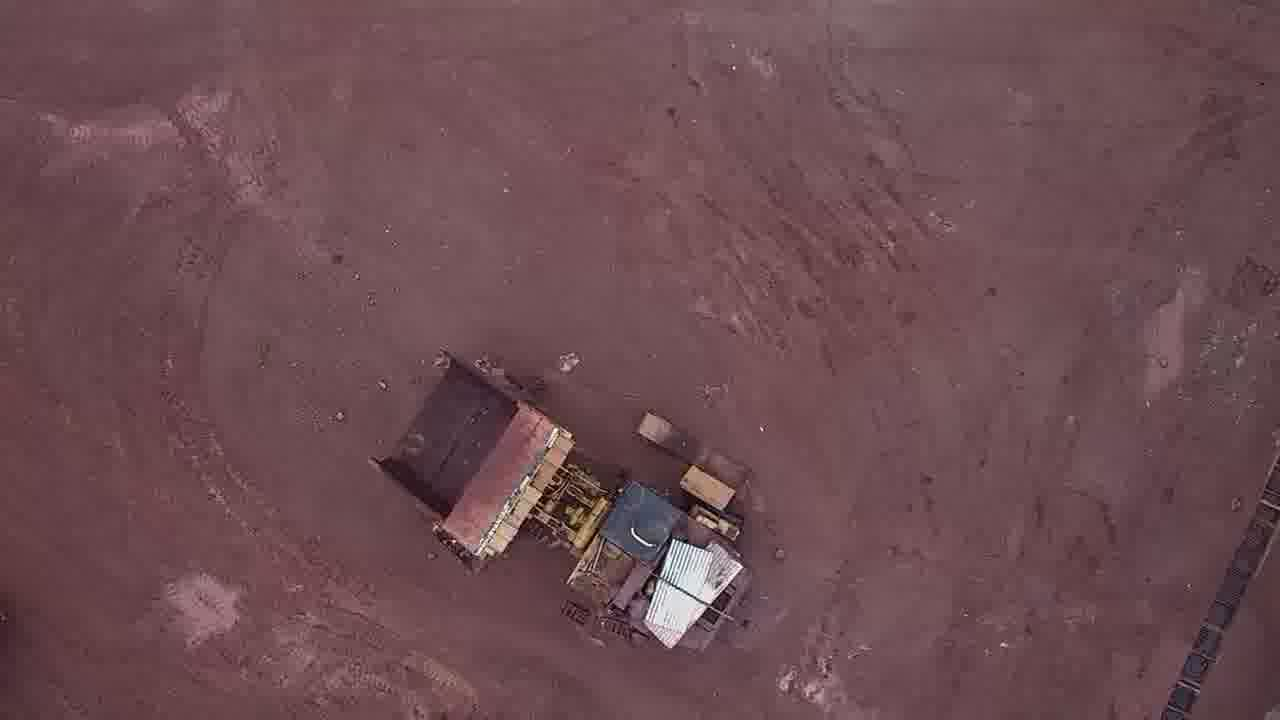heavy_motor_vehicle: (367, 348, 752, 664)
